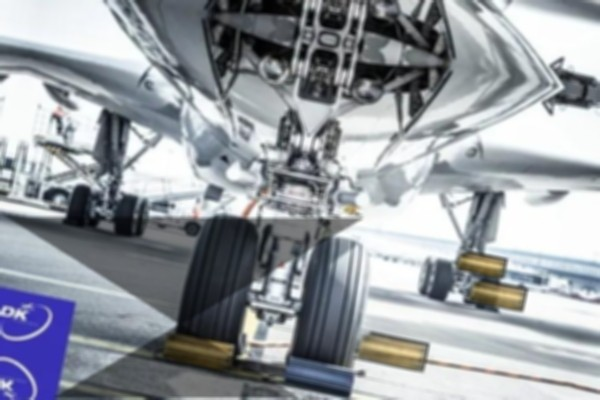chock: (158, 328, 238, 374), (353, 329, 430, 373), (284, 354, 358, 398), (466, 277, 528, 313), (454, 249, 508, 280), (474, 301, 502, 316), (60, 217, 86, 229)
wheel: (281, 231, 379, 395), (168, 208, 264, 359), (63, 181, 107, 230), (111, 191, 150, 238), (415, 254, 454, 301), (465, 264, 503, 312), (458, 265, 484, 306), (84, 187, 107, 228), (415, 255, 437, 295), (255, 221, 274, 266), (131, 197, 152, 237), (41, 185, 72, 212), (294, 229, 312, 272), (183, 219, 202, 237)
